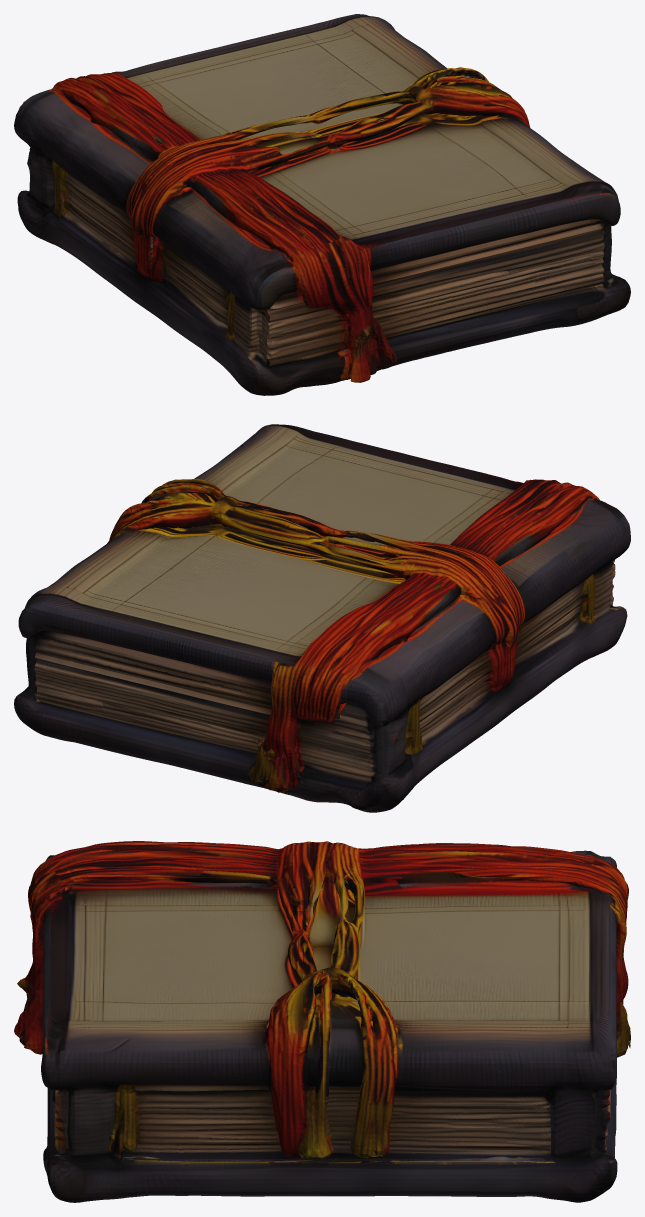
The model's file is prop.glb.
3 views of the same model, one above another, from view 1: azimuth 30°, elevation 25°; view 2: azimuth 150°, elevation 25°; view 3: azimuth 270°, elevation 25° (orthographic). The views are drawn at different scales.
Parts seen in each view (by area): view 1: geometry_0; view 2: geometry_0; view 3: geometry_0.
Boxes of the visible parts, x1=… form: geometry_0: x1=14, y1=14, x2=630, y2=395; geometry_0: x1=14, y1=424, x2=630, y2=812; geometry_0: x1=14, y1=841, x2=630, y2=1202.
Size of the model in its own units: 1.69 by 0.693 by 1.95.
1 material, 1 textured.
